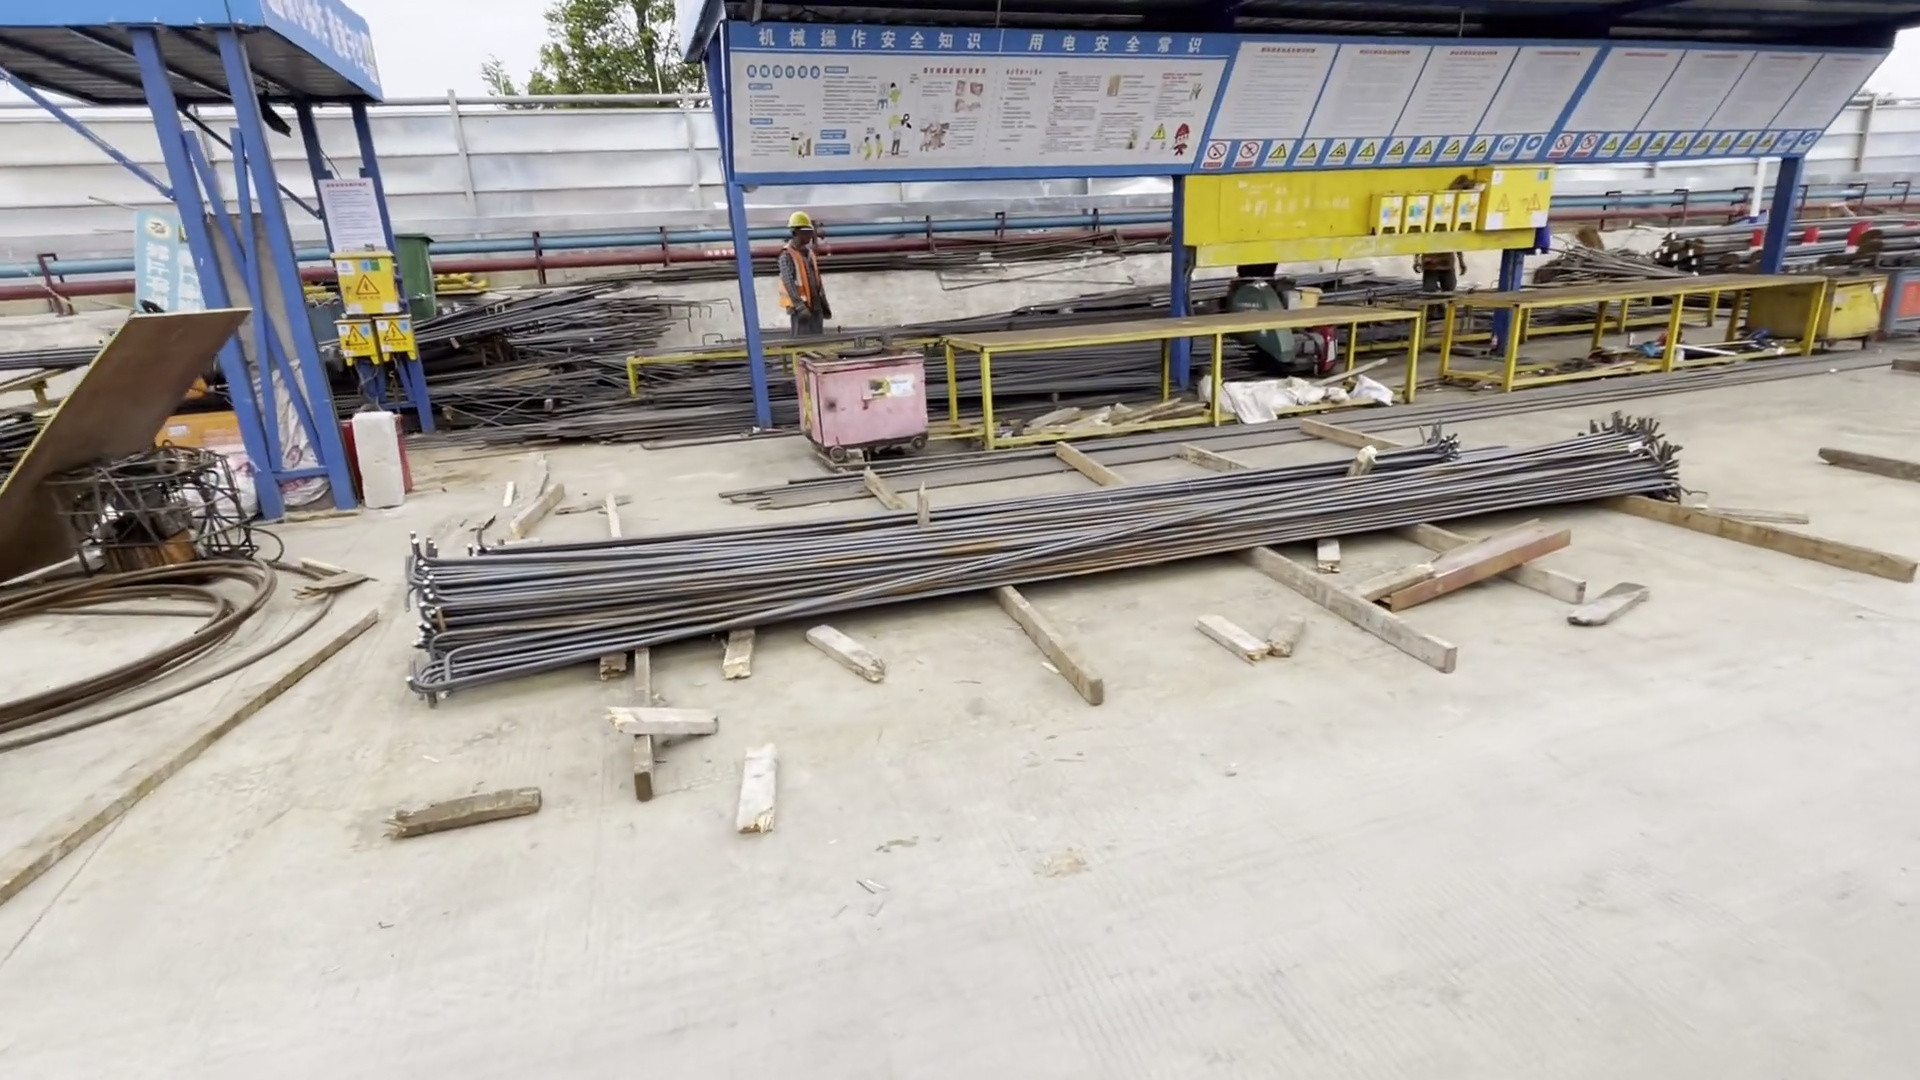ebox: (1372, 169, 1567, 245), (310, 247, 422, 373)
helmet: (786, 211, 809, 227)
person: (780, 202, 830, 327)
rebar: (391, 409, 1695, 695), (421, 287, 759, 409)
slogan: (727, 1, 1920, 185)
vest: (780, 246, 816, 309)
